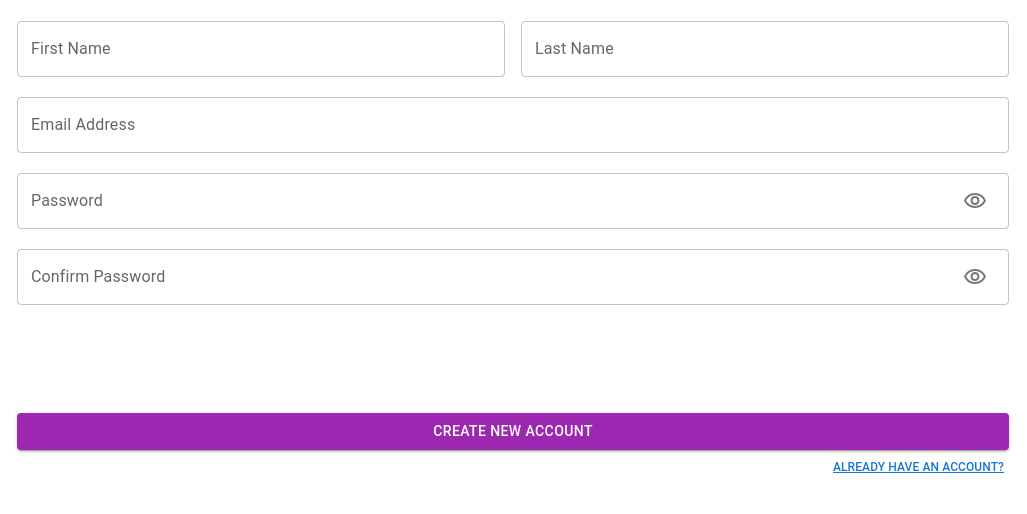
Test: Filling out the sign up form › Is invalid with an incorrect email
Type "Bob" into the field labelled "First Name" at (261, 49), box [17,21,505,77]
Type "Smith" into the field labelled "Last Name" at (765, 49), box [521,21,1009,77]
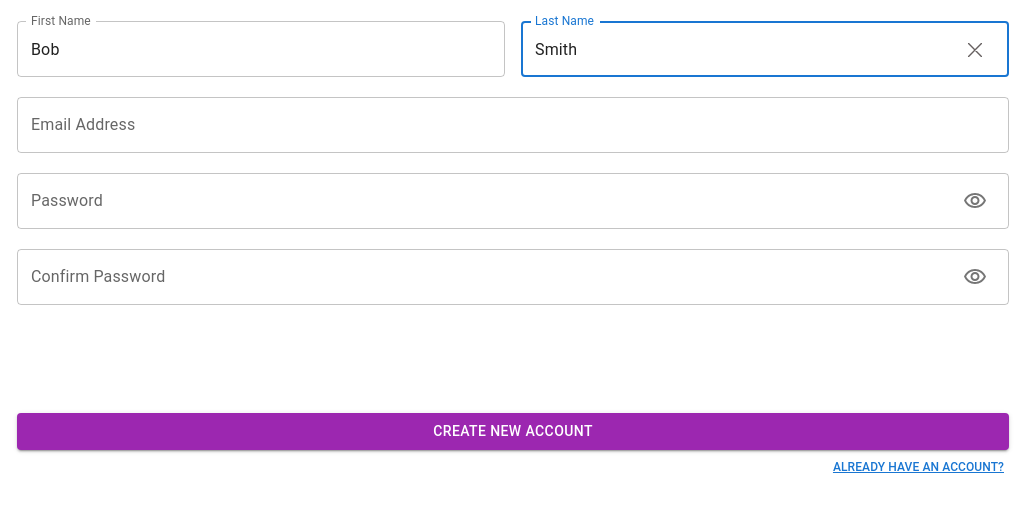
Type "bob@gmail.com" into the field labelled "Email Address" at (513, 125), box [17,97,1009,153]
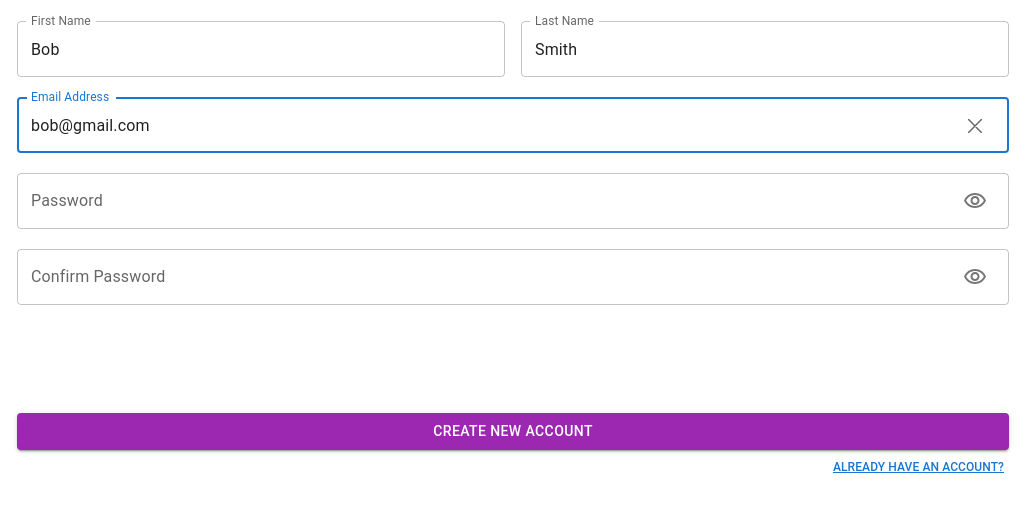
Type "password123" into the password field labelled "Password" at (486, 201), box [17,173,955,229]
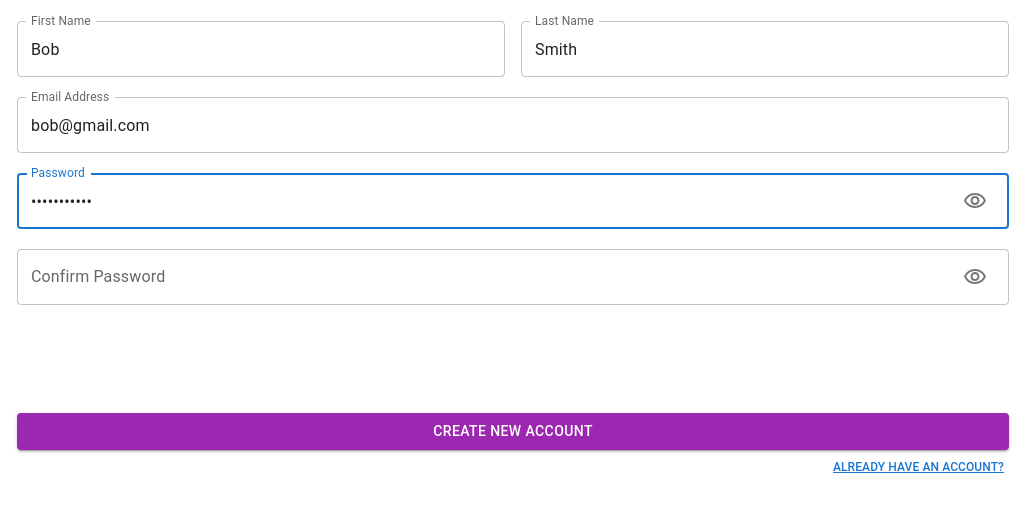
Type "password123" into the password field labelled "Confirm Password" at (486, 277), box [17,249,955,305]
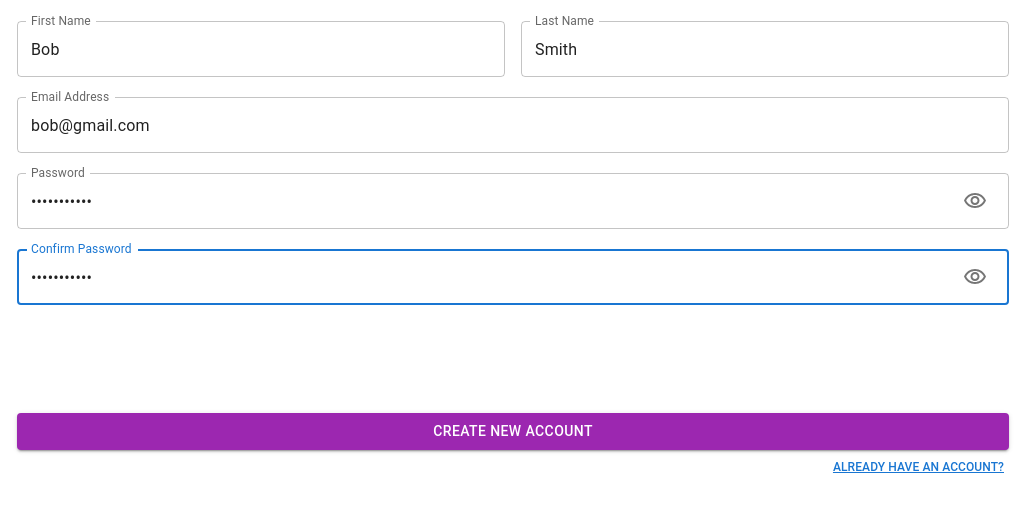
Expected: the button "Create New Account" is enabled, [17,413,1009,450]
Clear the field labelled "Email Address" at (513, 125), box [17,97,1009,153]
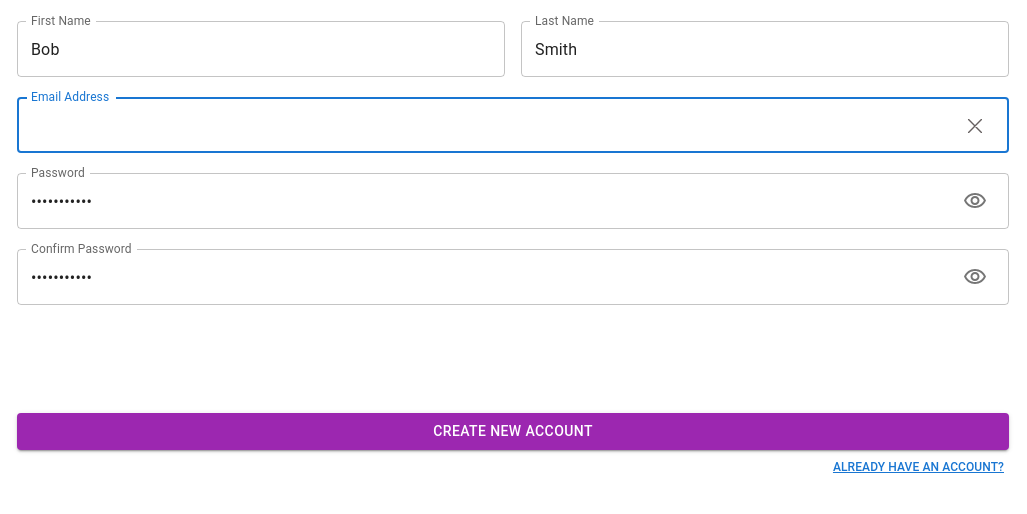
Type "sometext" into the field labelled "Email Address" at (506, 125), box [17,97,995,153]
Press Tab
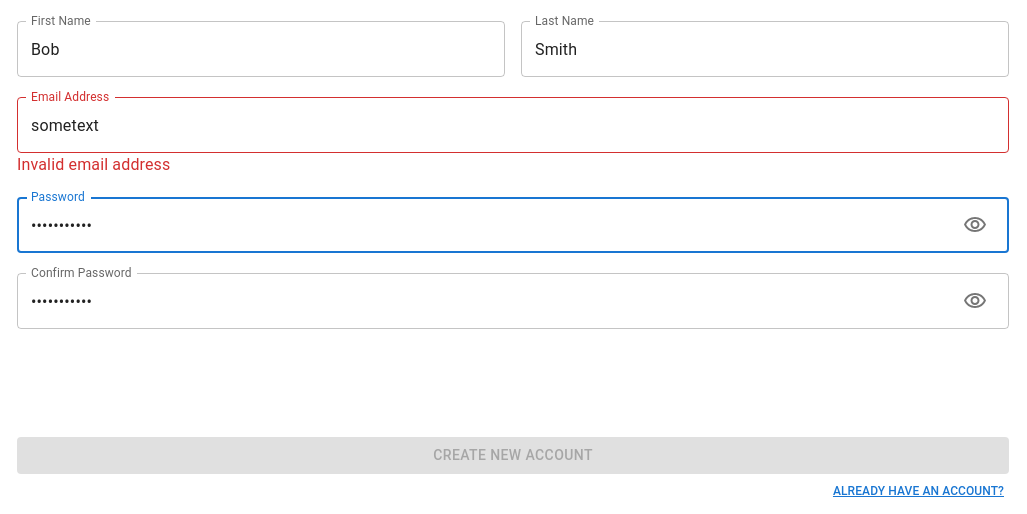
Expected: the button "Create New Account" is disabled, [17,437,1009,474]
Expected: the text "Invalid email address" is shown, [17,155,170,174]
